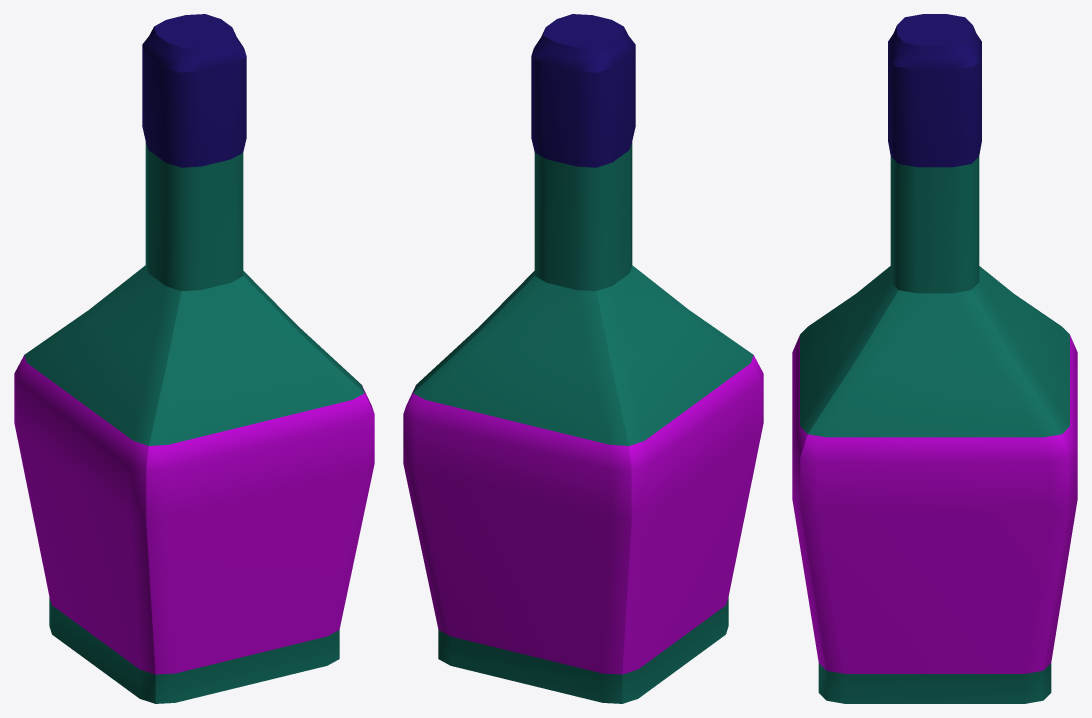
The picture shows the model from 3 angles, left to right: view 1: azimuth 30°, elevation 25°; view 2: azimuth 150°, elevation 25°; view 3: azimuth 270°, elevation 25°; orthographic projection. The views are drawn at different scales.
Visible parts, largest first — view 1: B7; view 2: B7; view 3: B7.
Boxes of the visible parts, x1,y1,x2,y2 form: B7: (14,14,374,703); B7: (403,14,763,703); B7: (792,14,1077,703).
Bounding box in the file's own units: 48.38 × 117 × 48.38.
